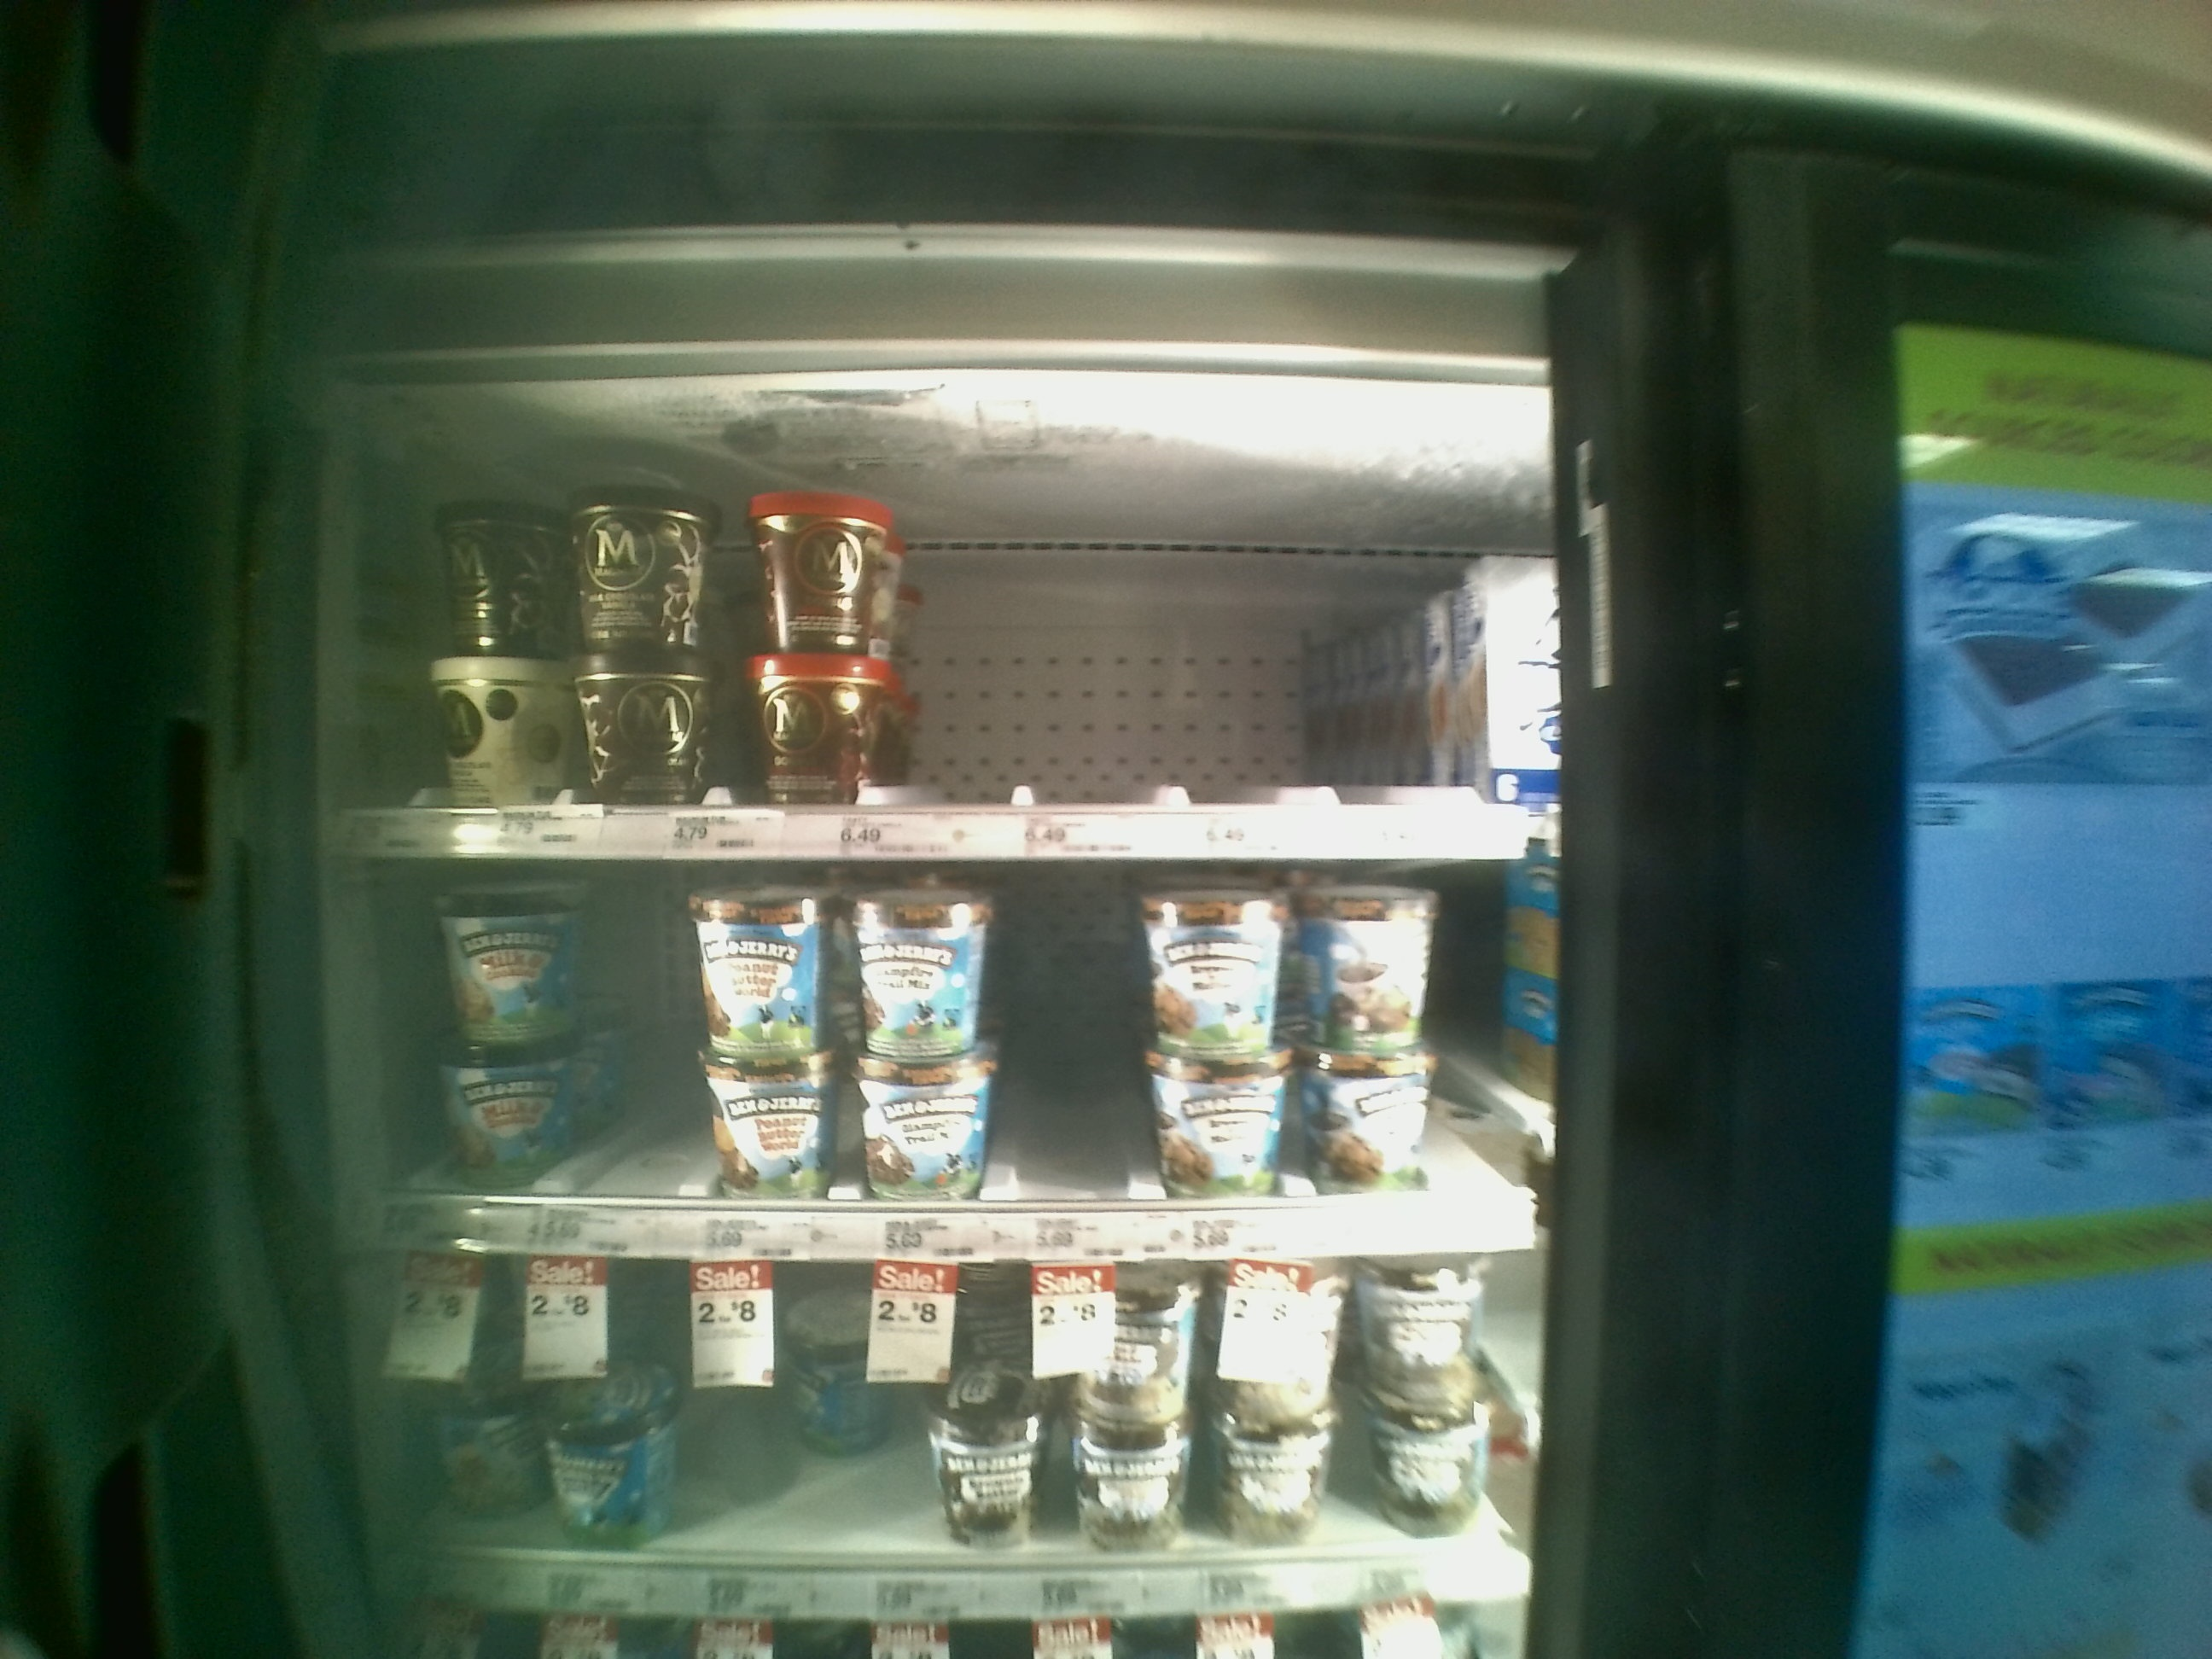ice-cream-shelf: (376, 385, 1564, 854), (381, 849, 1555, 1260), (383, 1265, 1526, 1629)
